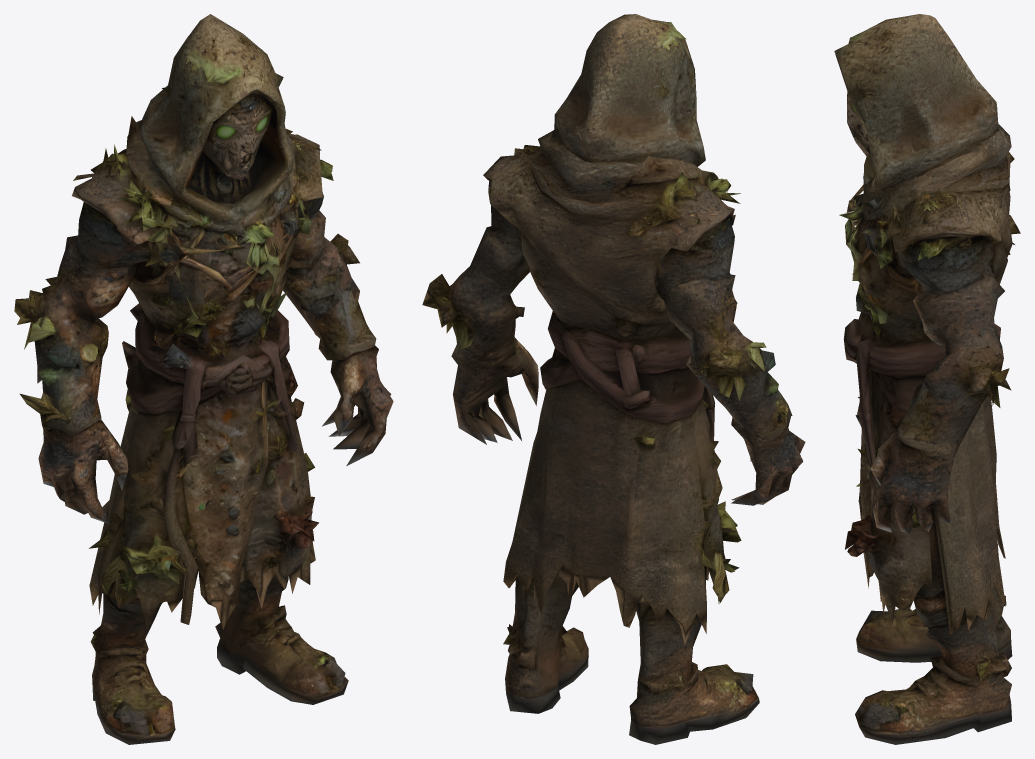
File: husk.glb
3 renders of one model, left to right at view 1: azimuth 30°, elevation 25°; view 2: azimuth 150°, elevation 25°; view 3: azimuth 270°, elevation 25°, orthographic.
Visible parts, largest first — view 1: tripo_node_c06706cf-e234-46e7-beaf-279adf2d39d7; view 2: tripo_node_c06706cf-e234-46e7-beaf-279adf2d39d7; view 3: tripo_node_c06706cf-e234-46e7-beaf-279adf2d39d7.
Part boxes in pixels (x1,y1,x2,y2): tripo_node_c06706cf-e234-46e7-beaf-279adf2d39d7: (14, 14, 393, 744); tripo_node_c06706cf-e234-46e7-beaf-279adf2d39d7: (422, 14, 805, 744); tripo_node_c06706cf-e234-46e7-beaf-279adf2d39d7: (834, 14, 1020, 744).
Bounding box in the file's own units: 0.5357 × 1 × 0.2504.
1 material, 1 textured.
